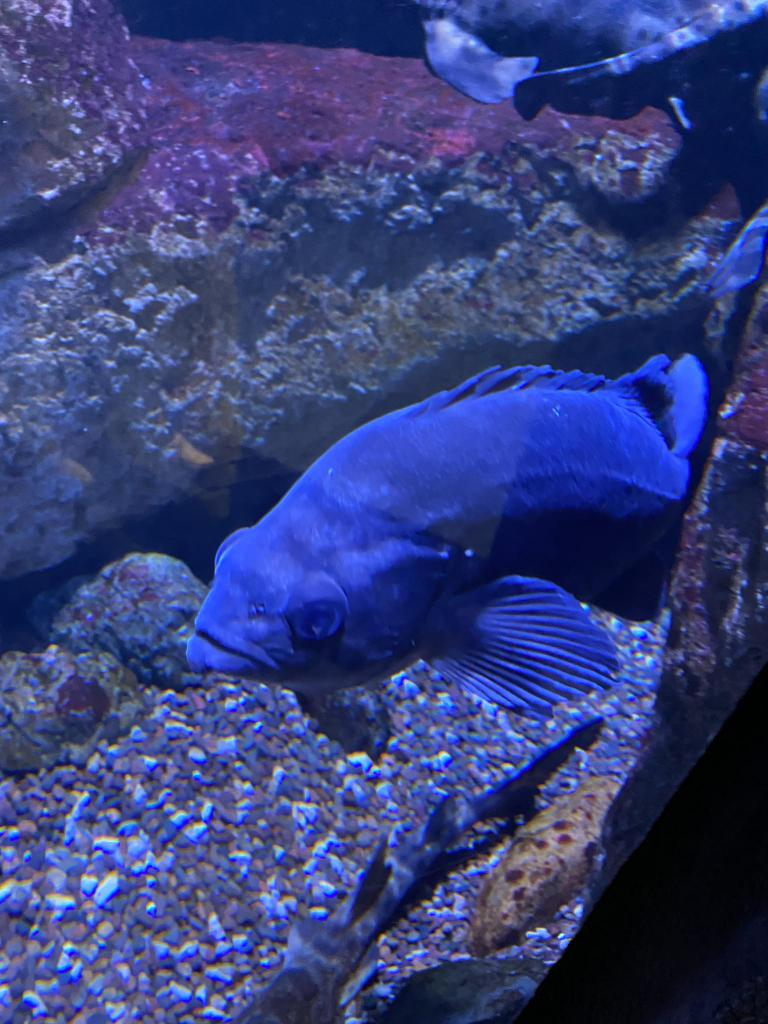fish: (186, 354, 706, 722)
shark: (217, 716, 601, 1024), (416, 0, 767, 131)
